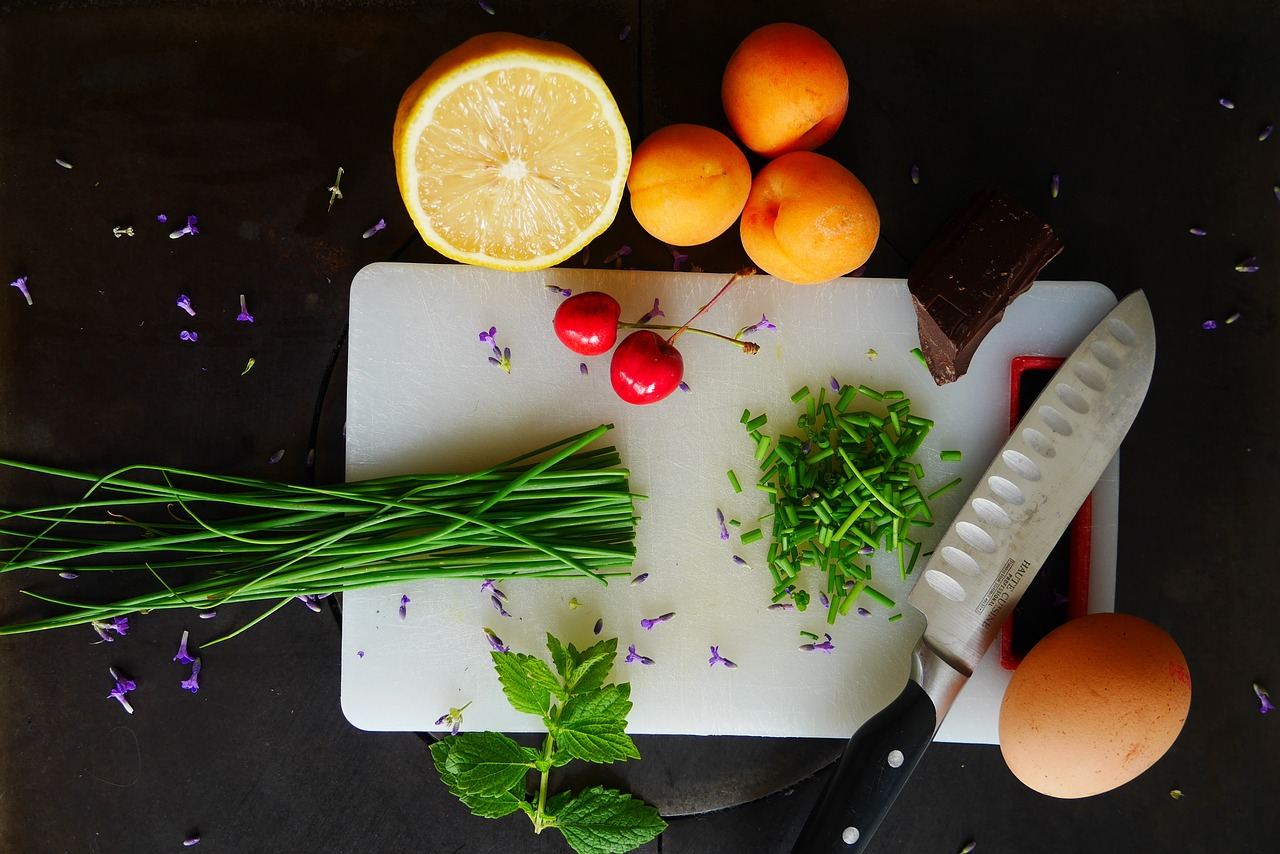knife: (801, 276, 1166, 854)
